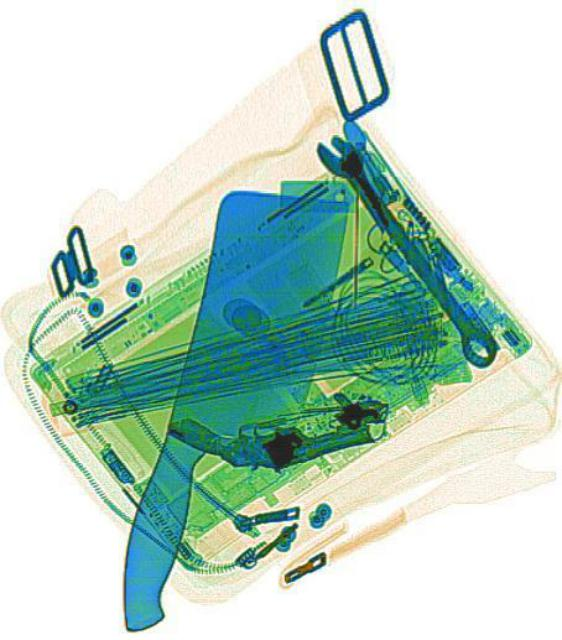Gun: (168, 372, 372, 492)
Knife: (126, 172, 345, 636)
Wrench: (309, 123, 500, 371)
